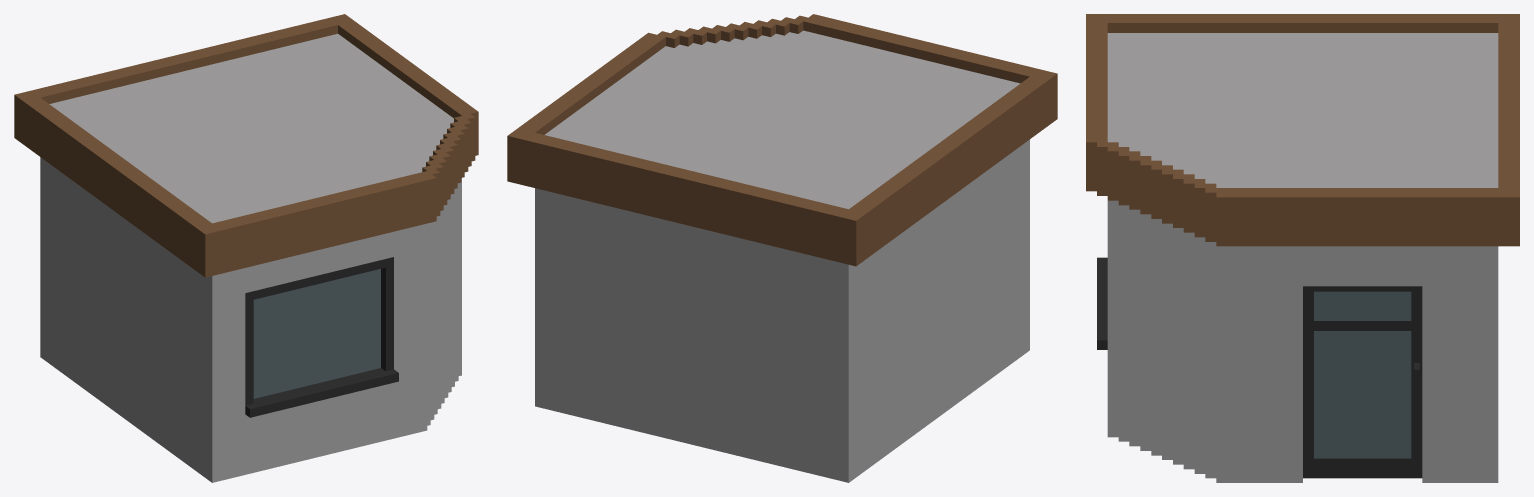
Rendered from store_brown.fbx.
3 views of the same model, side by side, from view 1: azimuth 30°, elevation 25°; view 2: azimuth 150°, elevation 25°; view 3: azimuth 270°, elevation 25° (orthographic). The views are drawn at different scales.
Parts seen in each view (by area): view 1: Untitled; view 2: Untitled; view 3: Untitled.
Boxes of the visible parts, <box> form: Untitled: <box>14,14,478,482</box>; Untitled: <box>507,14,1057,482</box>; Untitled: <box>1086,14,1519,482</box>.
Bounding box in the file's own units: 1600 × 1200 × 1600.
Materials: 1 (1 with a texture image).
